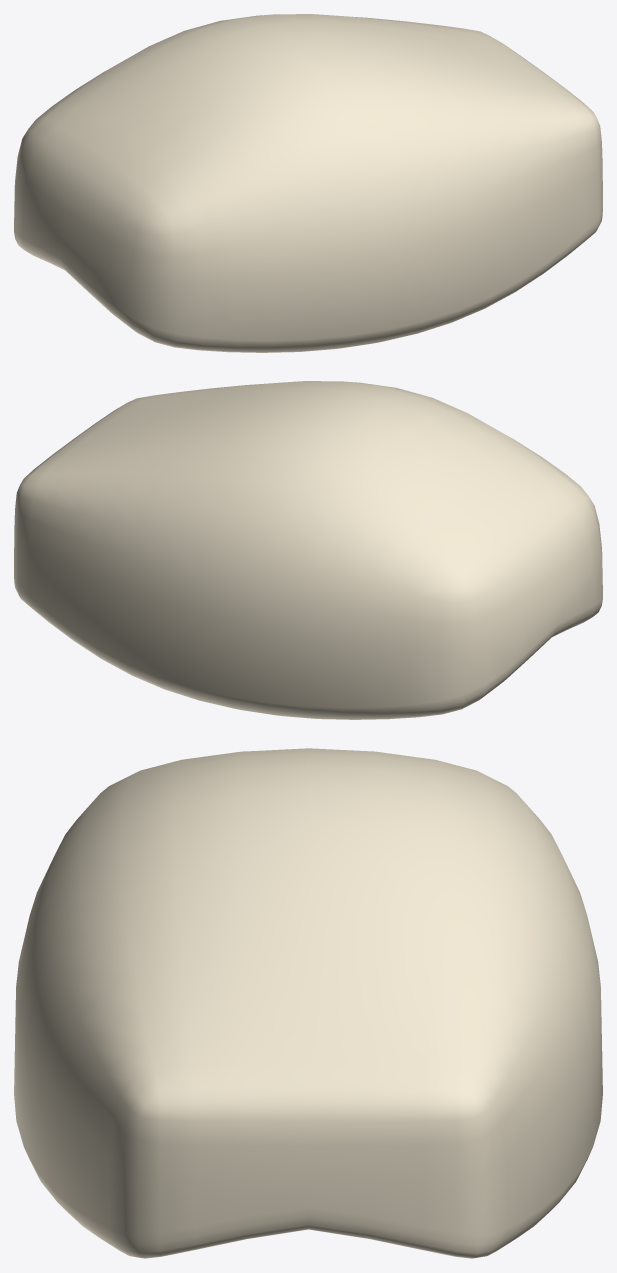
Rendered from cowrie_b1.glb.
3 renders of one model, top to bottom at view 1: azimuth 30°, elevation 25°; view 2: azimuth 150°, elevation 25°; view 3: azimuth 270°, elevation 25°, orthographic. The views are drawn at different scales.
Parts seen in each view (by area): view 1: cowrie_b1; view 2: cowrie_b1; view 3: cowrie_b1.
Part boxes in pixels (x1=…): cowrie_b1: x1=14, y1=14, x2=602, y2=352; cowrie_b1: x1=14, y1=381, x2=602, y2=719; cowrie_b1: x1=14, y1=748, x2=602, y2=1258.
Size of the model in its own units: 0.022 by 0.0104 by 0.016.
